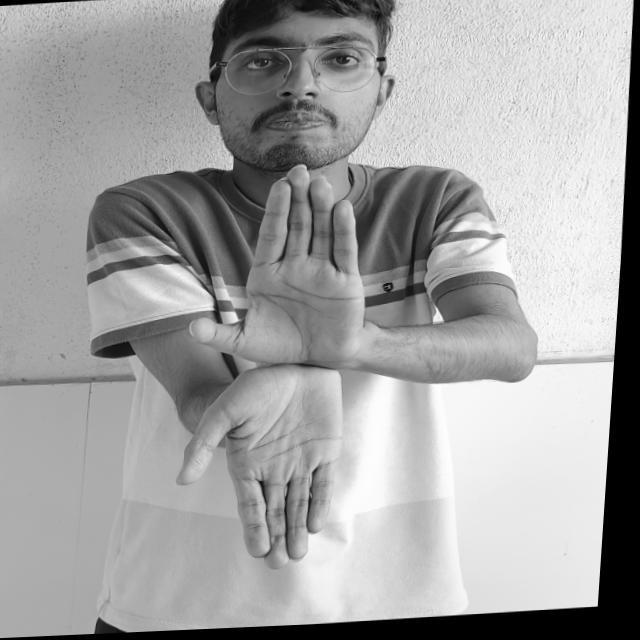Morning: (167, 155, 415, 591)
